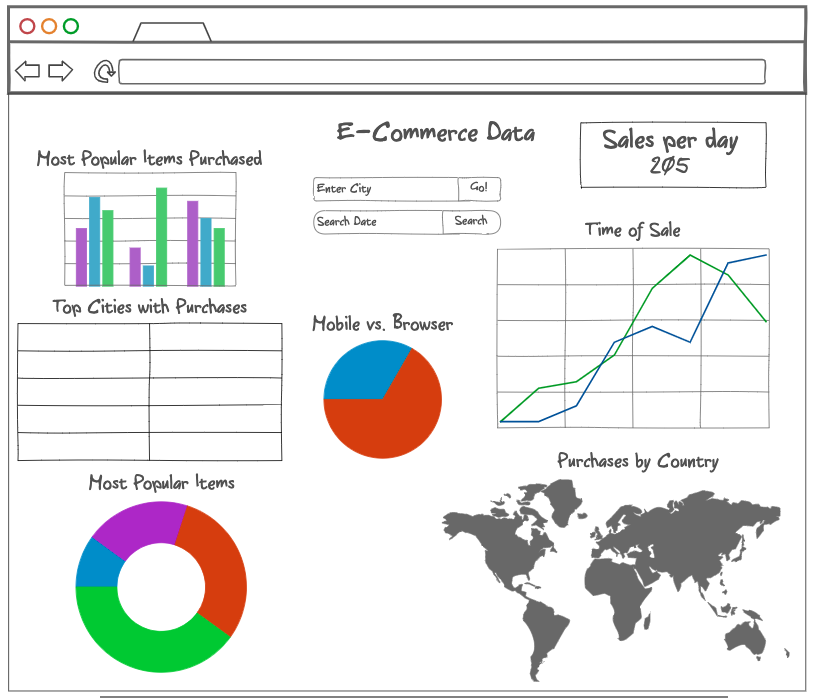

The page's visual inventory and layout, read from the dashboard file:
{"tool":"tableau","page":{"name":"Dashboard 1","canvas":[1000,800],"ordinal":0},"visuals":[{"type":"worksheet","box":[0,0,1000,800]},{"type":"worksheet","param":"vert","box":[8,8,984,784]},{"type":"worksheet","box":[8,8,984,784]},{"type":"worksheet","title":"Device ","mark":"Automatic","cols":["deviceCategory"],"box":[649,17,295,146]},{"type":"worksheet","title":"Operating","mark":"Automatic","rows":["operatingSystem"],"cols":["operatingSystem"],"box":[21,28,909,356]},{"type":"worksheet","title":"Country","mark":"Automatic","box":[359,386,618,382]},{"type":"worksheet","title":"Channels","mark":"Automatic","rows":["channelGrouping"],"box":[56,407,276,353]}]}

Visuals, with their boxes in screenshot pixels (x1, y1, x2, y2):
worksheet: detection(4, 81, 808, 698)
worksheet: detection(11, 87, 802, 698)
worksheet: detection(11, 87, 802, 698)
"Device " worksheet: detection(526, 94, 763, 212)
"Operating" worksheet: detection(21, 103, 752, 389)
"Country" worksheet: detection(293, 391, 789, 698)
"Channels" worksheet: detection(49, 408, 271, 691)
